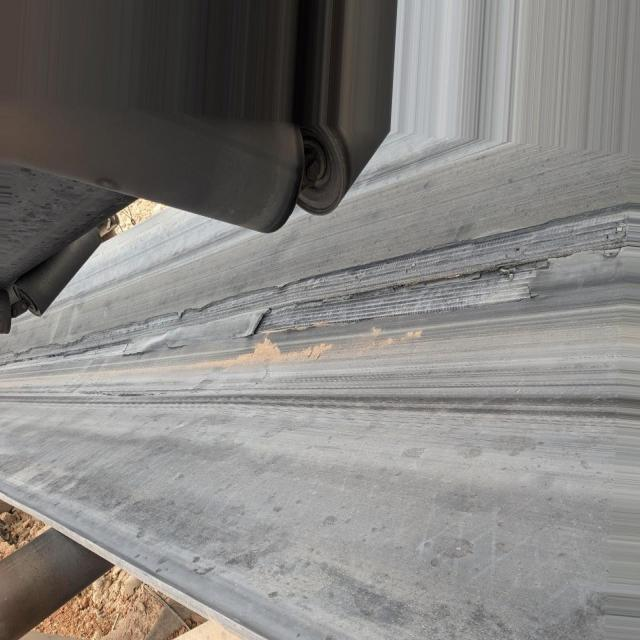Roller: (212, 121, 304, 237), (14, 225, 105, 318), (301, 59, 349, 212), (0, 294, 11, 334)
Tear: (10, 203, 636, 363)
